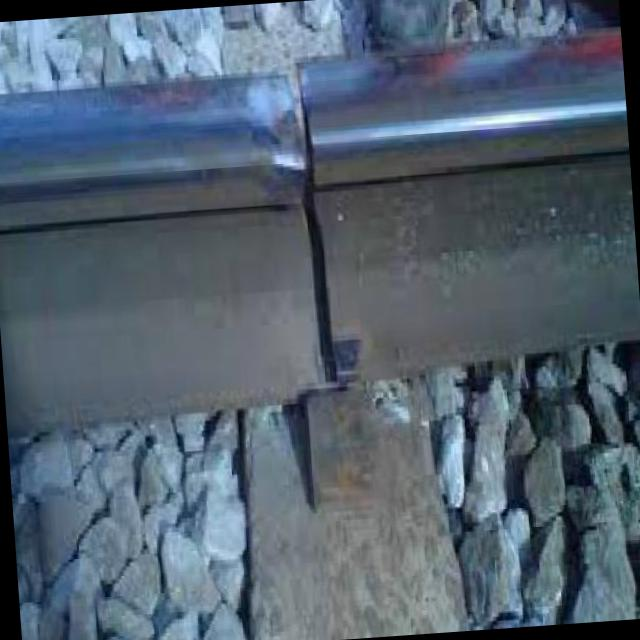defective: (35, 0, 640, 484)
